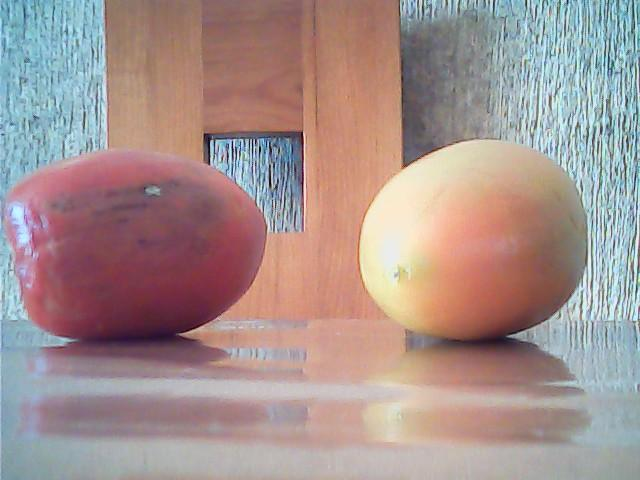defectuoso: (6, 150, 271, 347)
verde: (355, 138, 589, 342)
